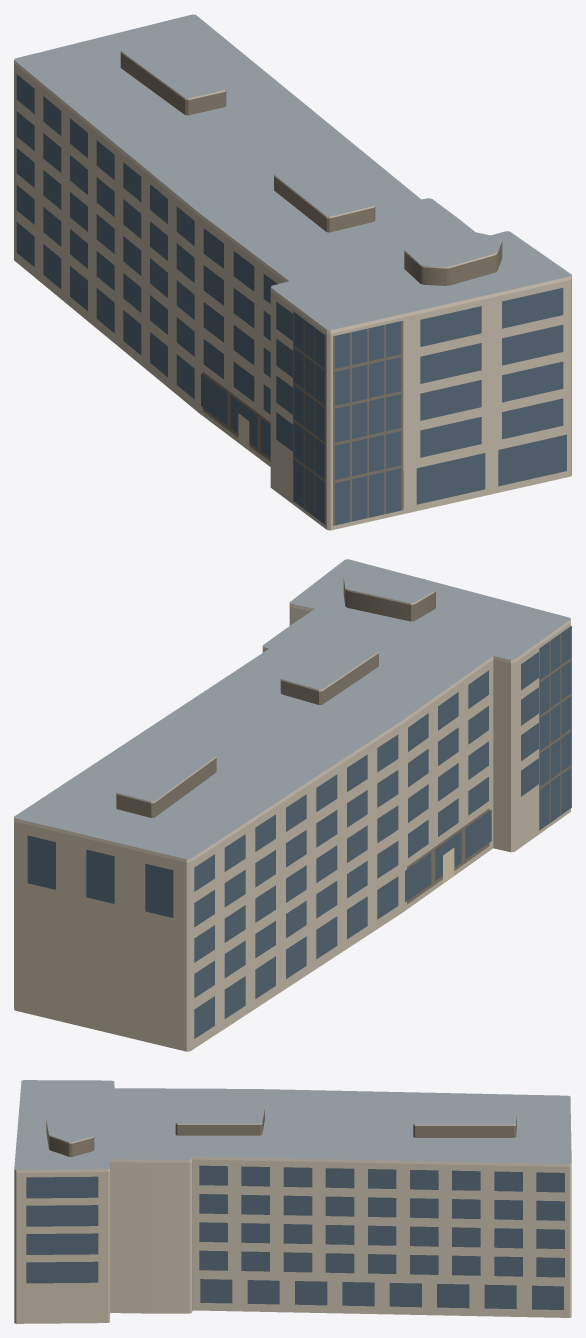
File: dc-au-duber-hall.glb
3 renders of one model, top to bottom at view 1: azimuth 30°, elevation 25°; view 2: azimuth 150°, elevation 25°; view 3: azimuth 270°, elevation 25°, orthographic. The views are drawn at different scales.
Visible parts, largest first — view 1: Duber Hall; view 2: Duber Hall; view 3: Duber Hall.
Boxes of the visible parts, x1=… form: Duber Hall: x1=14, y1=14, x2=571, y2=530; Duber Hall: x1=14, y1=559, x2=571, y2=1051; Duber Hall: x1=14, y1=1080, x2=571, y2=1323.
Bounding box in the file's own units: 20.82 × 18.07 × 54.25.
